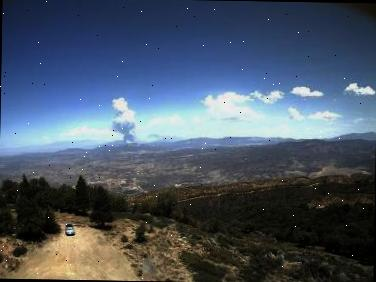smoke: (108, 95, 145, 147)
